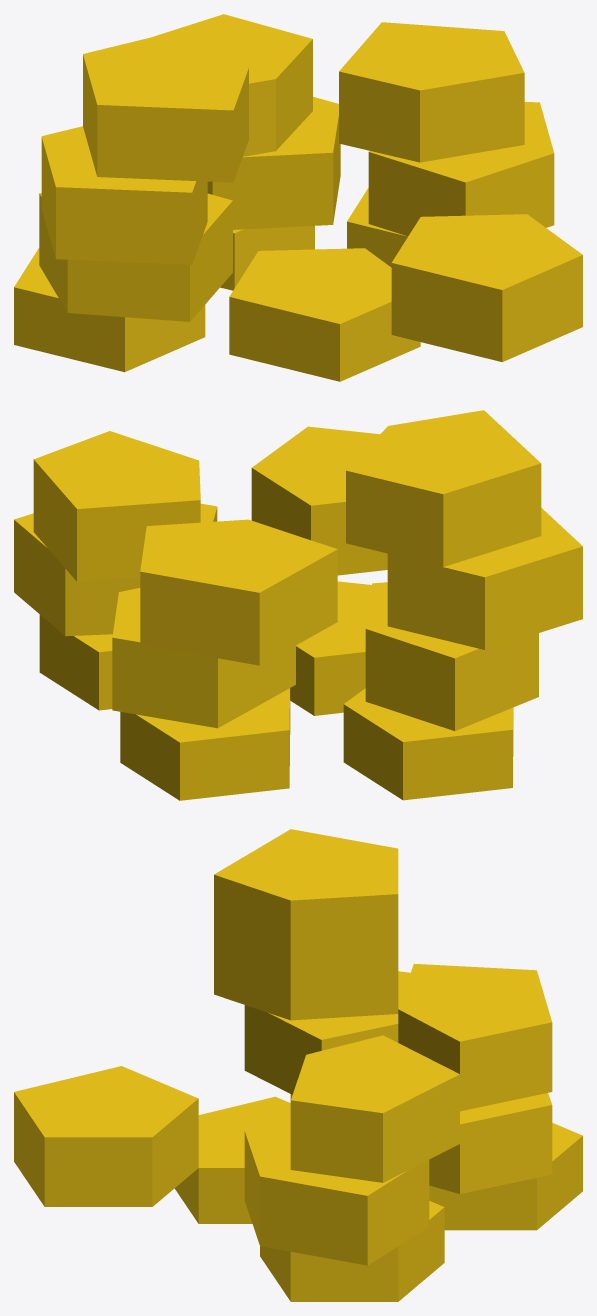
File: inv_stack_coins_250.obj
3 renders of one model, top to bottom at view 1: azimuth 30°, elevation 25°; view 2: azimuth 150°, elevation 25°; view 3: azimuth 270°, elevation 25°, orthographic. The views are drawn at different scales.
Bounding box in the file's own units: 0.2969 × 0.1484 × 0.2891.
